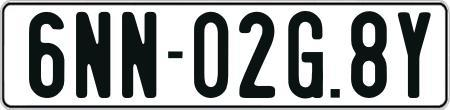0: (191, 11, 228, 98)
2: (236, 11, 277, 103)
6: (27, 9, 63, 97)
8: (351, 8, 392, 96)
G: (288, 11, 329, 101)
N: (121, 12, 161, 98), (75, 12, 111, 98)
Y: (395, 11, 430, 103)
